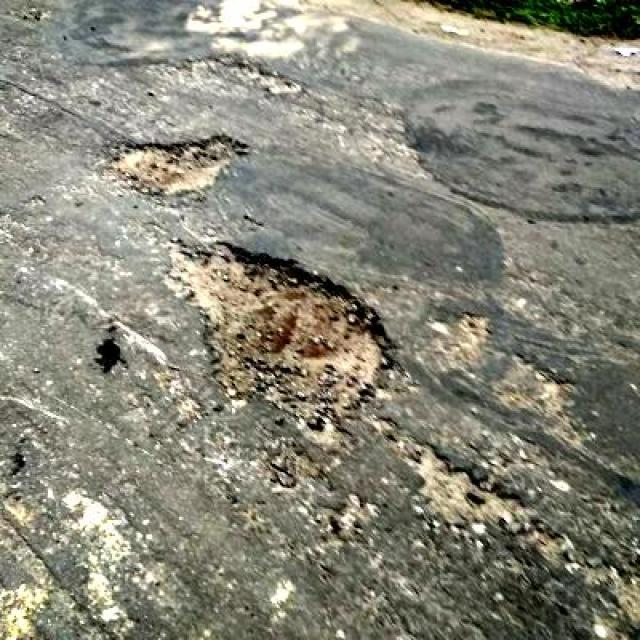pothole: (162, 235, 387, 427), (102, 130, 245, 193)
